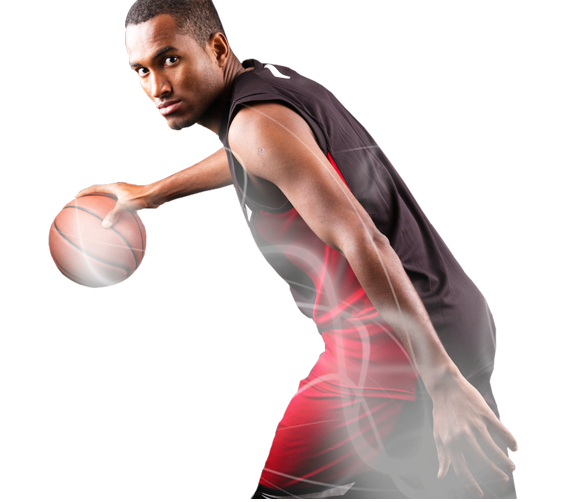ball: (45, 191, 149, 287)
player: (117, 1, 520, 502)
